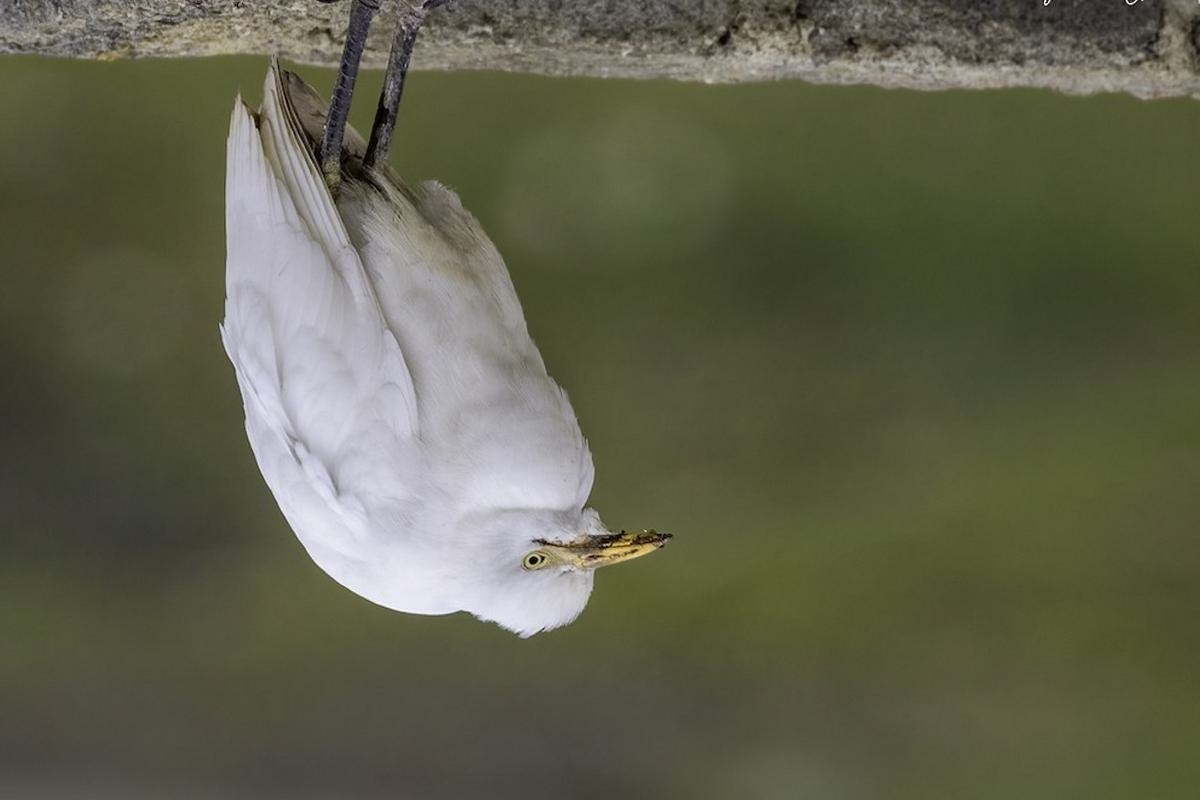egret: (188, 23, 696, 675)
